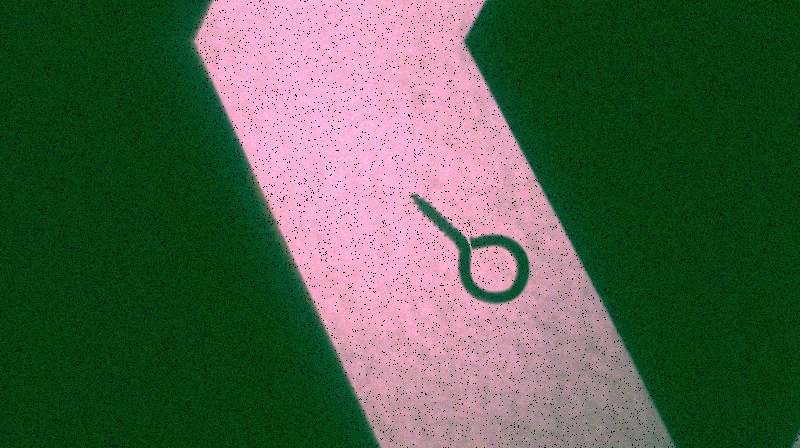O001: (408, 191, 533, 305)
